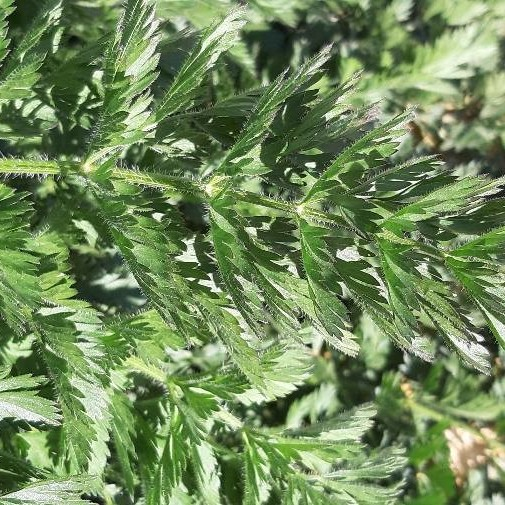obstacle: (16, 13, 496, 379), (36, 312, 406, 484)
